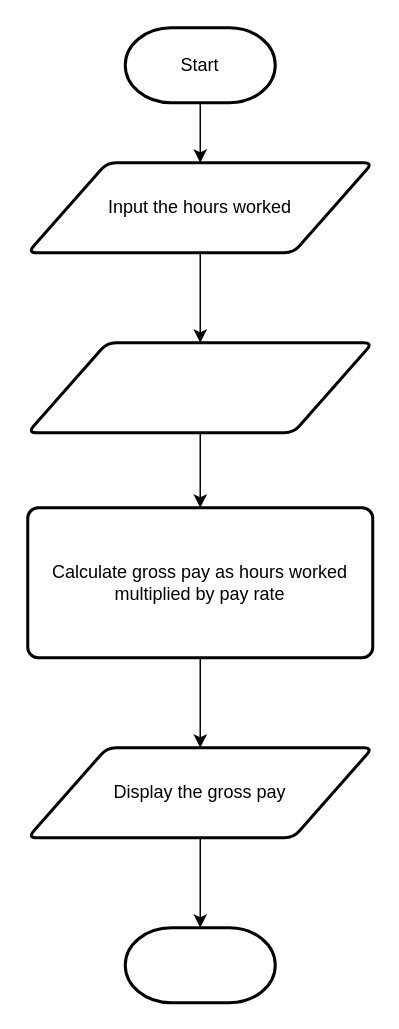
The diagram is 399 pixels wide and 1029 high, and some of its shapes have lost their labels. The centre of each missing label's shape, as x and y in pixels:
"End" belongs at pixel 199 965.
"Input the hourly pay rate" belongs at pixel 200 387.
